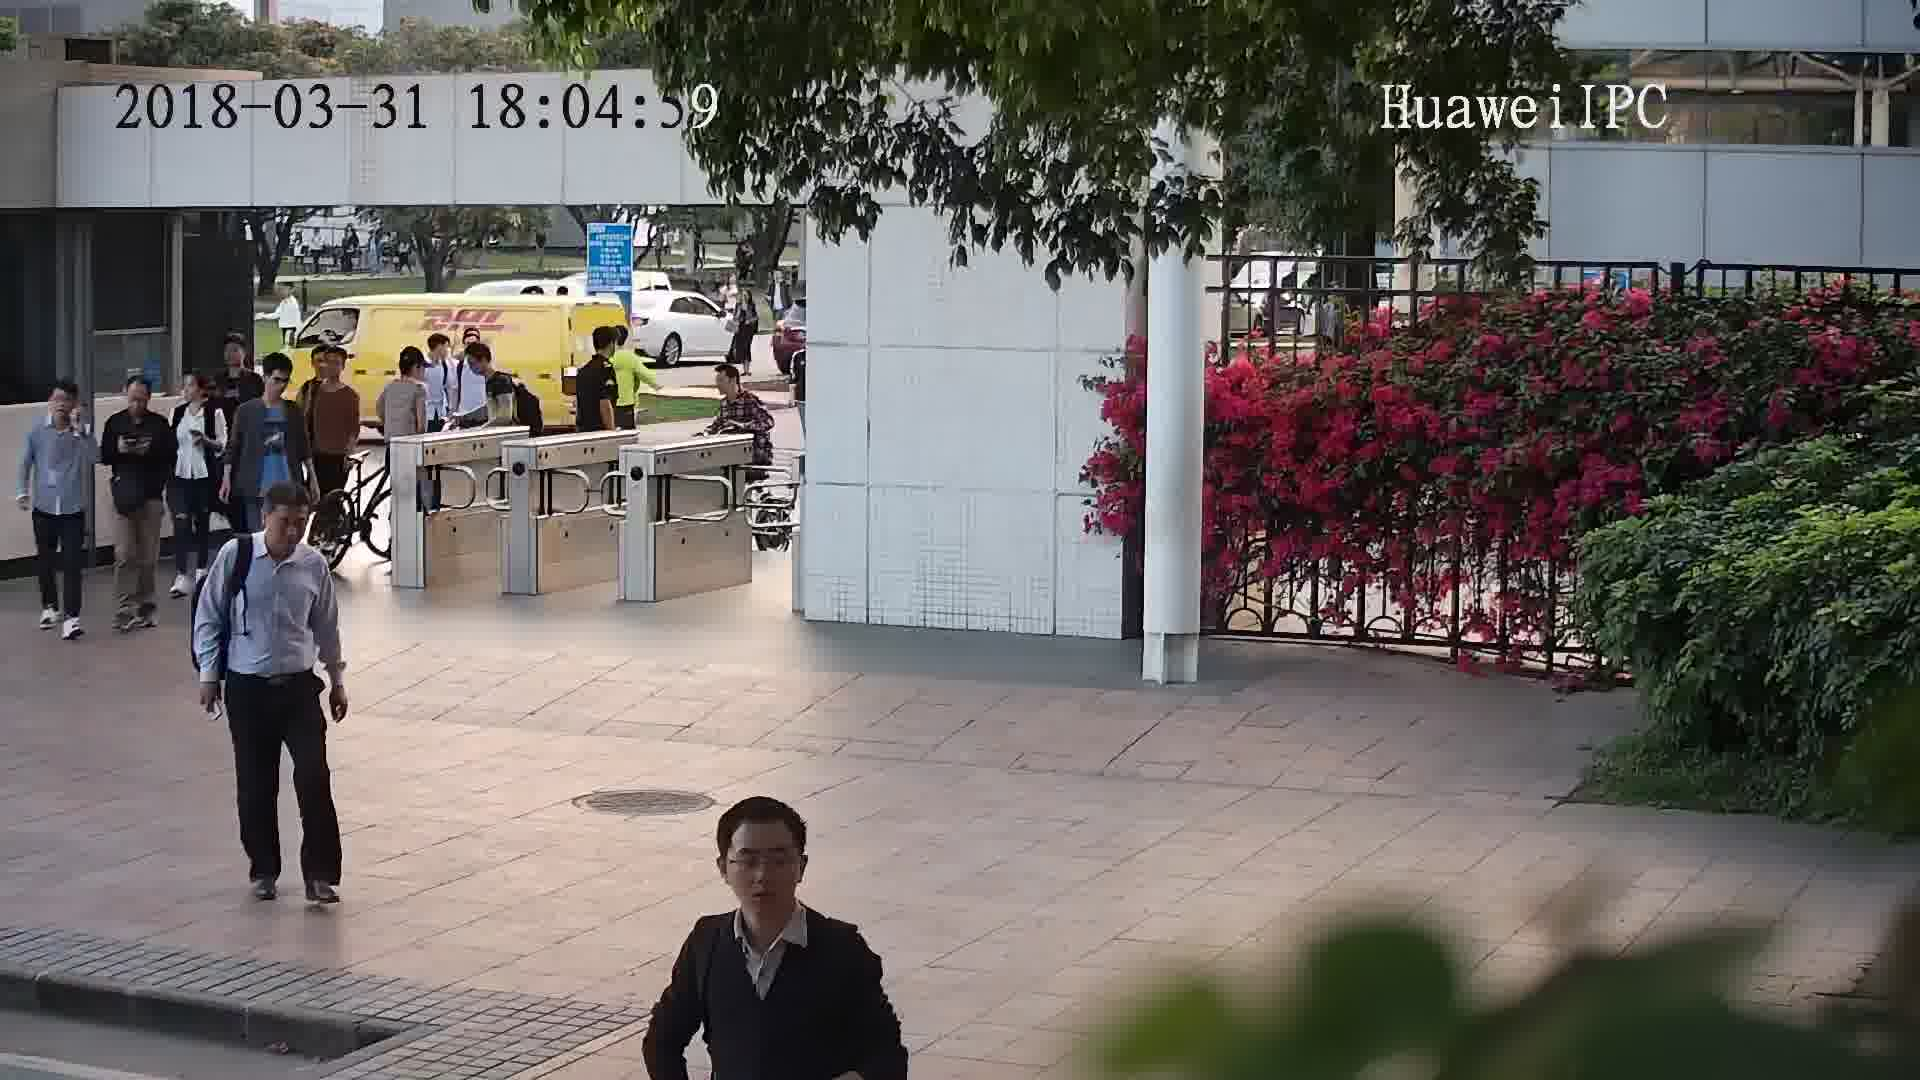face: (716, 818, 809, 911), (262, 503, 312, 554)
person: (674, 791, 878, 985), (219, 479, 334, 573), (22, 375, 97, 446), (233, 354, 304, 425), (110, 370, 167, 435), (301, 342, 361, 399), (173, 367, 229, 427), (712, 359, 765, 417), (379, 345, 433, 397), (211, 335, 261, 388), (463, 337, 513, 388), (575, 325, 622, 372), (421, 329, 461, 381), (607, 326, 638, 362), (272, 274, 302, 311), (718, 267, 745, 300), (733, 282, 759, 315), (763, 269, 793, 294)
